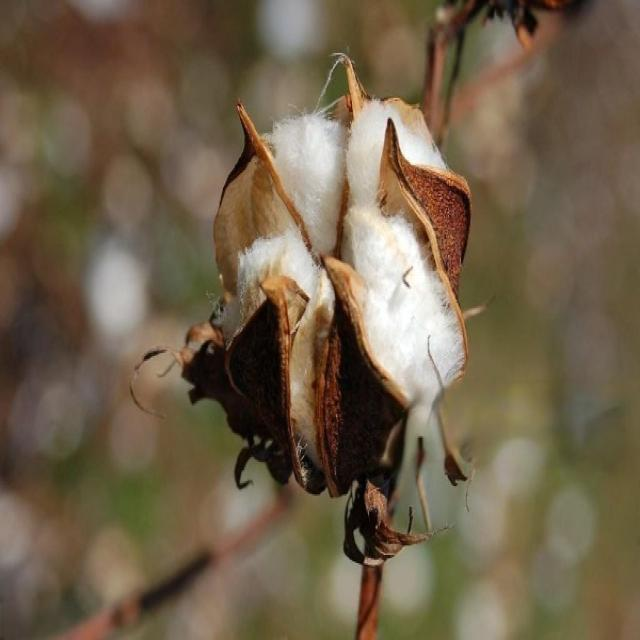Split Cotton Boll: (203, 90, 469, 492)
